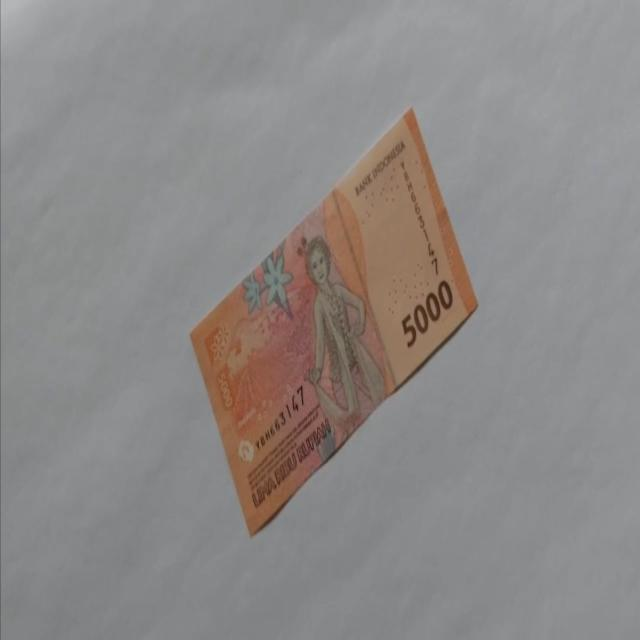lima ribu rupiah: (188, 105, 478, 536)
